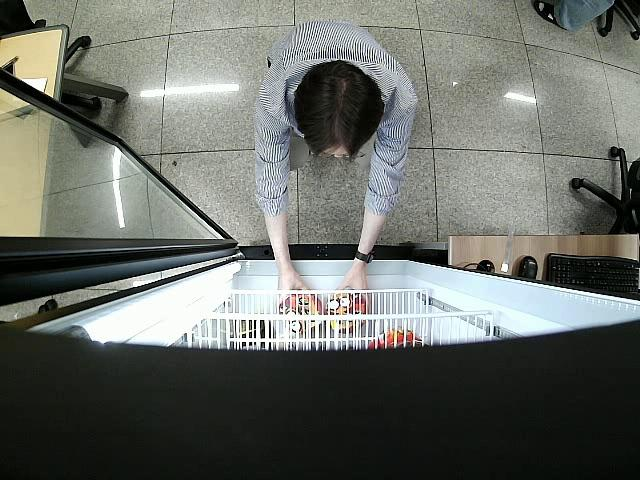00_hand: (336, 274, 372, 309), (278, 273, 310, 298)
05_nuguri_L: (279, 288, 322, 336), (325, 292, 369, 336)
